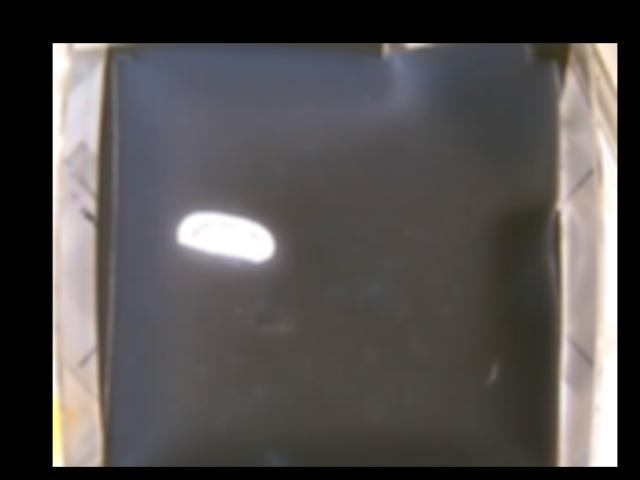Pebble: (175, 209, 274, 263)
